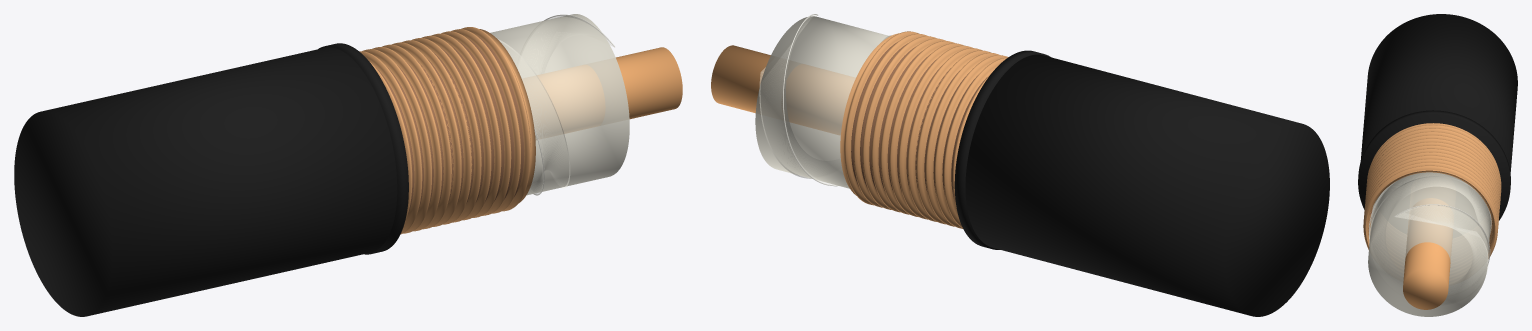
Rendered from rf-ldf4.glb.
3 views of the same model, side by side, from view 1: azimuth 30°, elevation 25°; view 2: azimuth 150°, elevation 25°; view 3: azimuth 270°, elevation 25° (orthographic). The views are drawn at different scales.
Visible parts, largest first — view 1: black PE jacket body, corrugated copper shield, foam PE dielectric, solid center conductor continuous, dark groove shadow pass, jacket cut lip, surface PTFE tape wrap; view 2: black PE jacket body, corrugated copper shield, foam PE dielectric, solid center conductor continuous, dark groove shadow pass, jacket cut lip, surface PTFE tape wrap; view 3: black PE jacket body, foam PE dielectric, corrugated copper shield, surface PTFE tape wrap, solid center conductor continuous, jacket cut lip, subtle PTFE tape lap line.
Boxes of the visible parts, x1,y1,x2,y2 form: black PE jacket body: (14,47,397,316); corrugated copper shield: (359,27,535,234); foam PE dielectric: (490,14,629,195); solid center conductor continuous: (522,47,682,139); dark groove shadow pass: (375,36,530,213); jacket cut lip: (318,43,408,254); surface PTFE tape wrap: (498,16,613,194); black PE jacket body: (965,54,1329,316); corrugated copper shield: (840,31,1008,228); foam PE dielectric: (755,16,889,188); solid center conductor continuous: (711,45,855,135); dark groove shadow pass: (851,42,986,201); jacket cut lip: (954,50,1050,249); surface PTFE tape wrap: (759,15,890,184); black PE jacket body: (1360,14,1517,172); foam PE dielectric: (1368,172,1490,316); corrugated copper shield: (1363,123,1501,258); surface PTFE tape wrap: (1369,173,1491,295); solid center conductor continuous: (1403,198,1452,309); jacket cut lip: (1358,110,1510,220); subtle PTFE tape lap line: (1369,187,1490,266).
Bounding box in the file's own units: 6.69 × 2.07 × 2.17.
